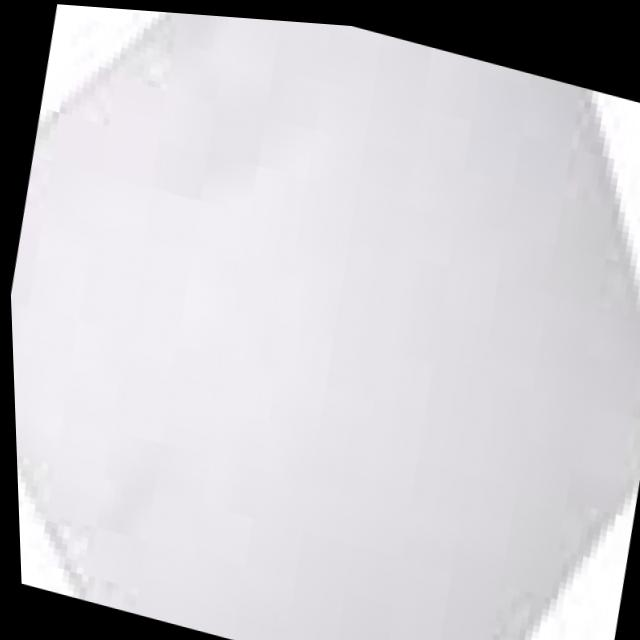metal-plates: (9, 10, 640, 640)
